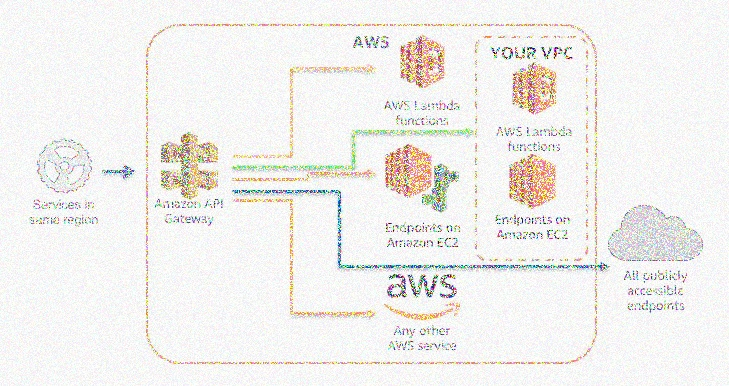API-Gateway: (157, 126, 222, 201)
EC2: (499, 151, 566, 213), (383, 140, 433, 202)
Internet: (607, 196, 706, 275)
Lambda: (504, 60, 566, 119), (397, 30, 452, 91)
Route53: (420, 162, 465, 214)
aws: (375, 266, 468, 325)
